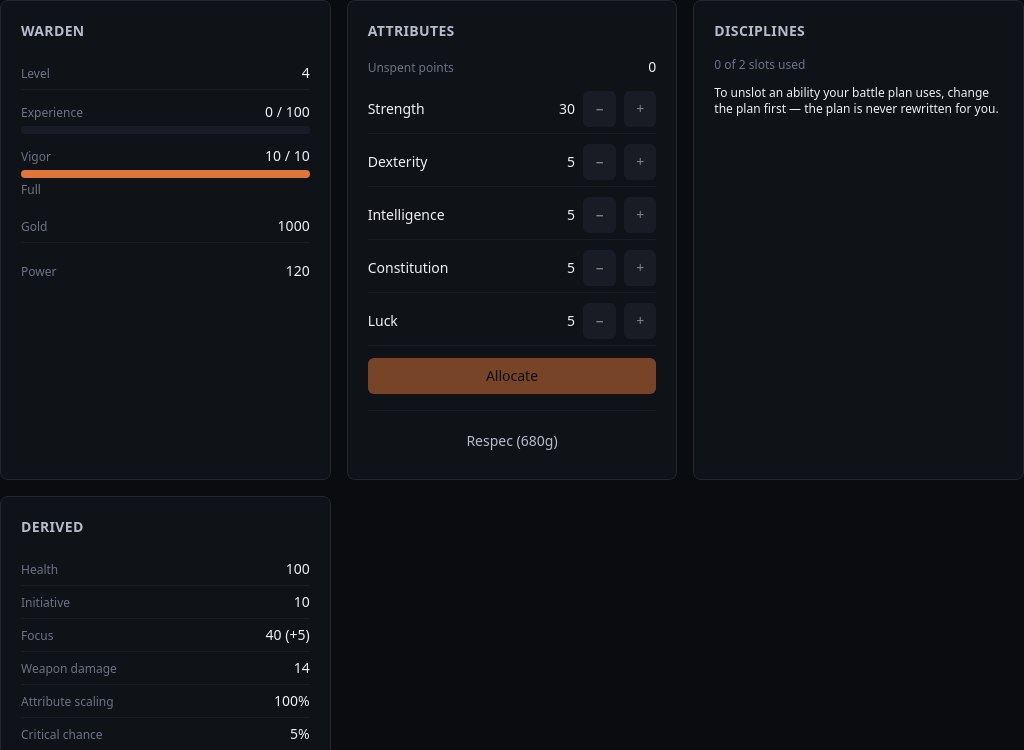
Test: respec › reports gear the reset took off
Step 1. Click the button "Respec (680g)" → {"x": 512, "y": 441}, box 368,423 -> 656,459
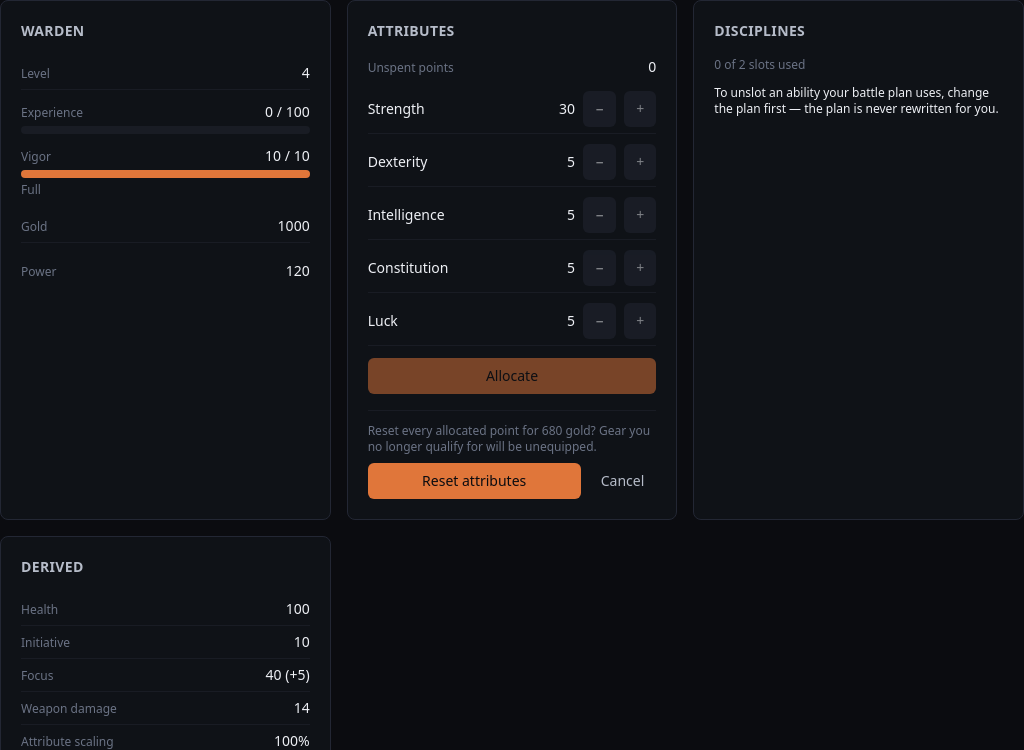
Step 2. Click the button "Reset attributes" → {"x": 474, "y": 481}, box 368,463 -> 581,499
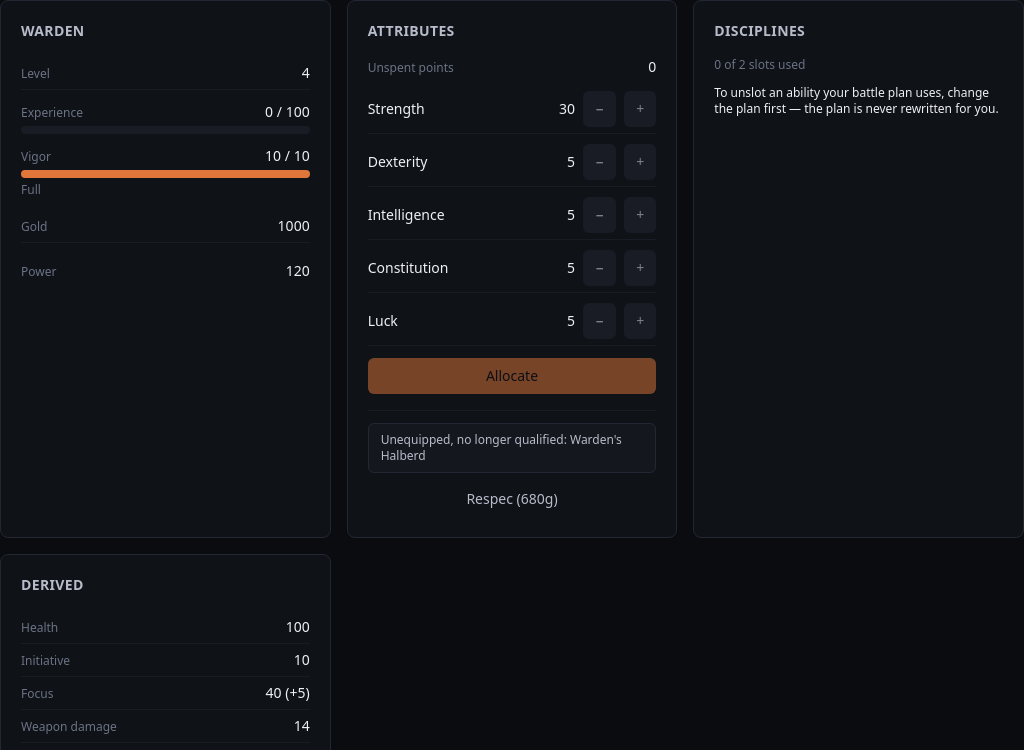
Now the message shows "Warden's Halberd", box 381,431 -> 622,464
